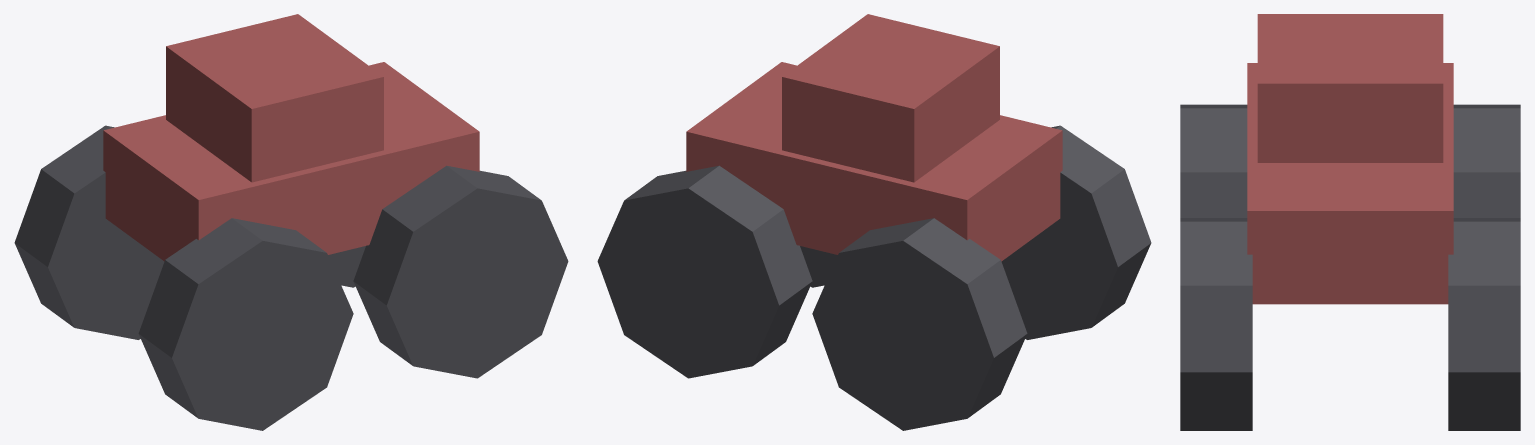
3 views of the same model, side by side, from view 1: azimuth 30°, elevation 25°; view 2: azimuth 150°, elevation 25°; view 3: azimuth 270°, elevation 25° (orthographic). The views are drawn at different scales.
Parts seen in each view (by area): view 1: part5, part3, part0, part1, part4, part2; view 2: part4, part2, part0, part1, part5, part3; view 3: part0, part1, part2, part3, part4, part5.
Part boxes in pixels (x1,y1,x2,y2): part5: [138, 218, 353, 430]; part3: [353, 165, 568, 378]; part0: [103, 62, 479, 261]; part1: [166, 14, 383, 182]; part4: [14, 125, 164, 339]; part2: [328, 246, 365, 287]; part4: [812, 218, 1027, 430]; part2: [597, 165, 812, 378]; part0: [686, 62, 1062, 261]; part1: [782, 14, 999, 182]; part5: [1001, 125, 1151, 339]; part3: [800, 246, 837, 287]; part0: [1247, 63, 1453, 304]; part1: [1257, 14, 1443, 162]; part2: [1448, 218, 1520, 430]; part3: [1180, 218, 1252, 430]; part4: [1453, 104, 1520, 217]; part5: [1180, 104, 1247, 217].
Bounding box in the file's own units: 4.8 × 3.35 × 3.3.
